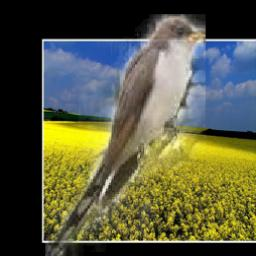Cuckoo: (44, 14, 205, 256)
